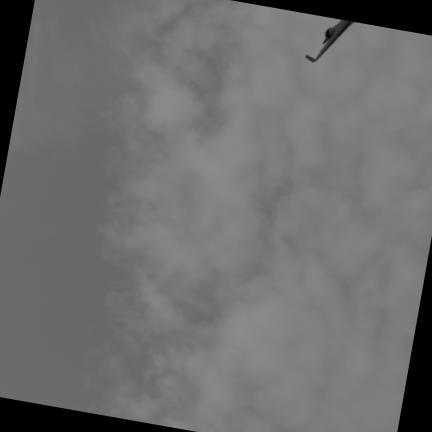Shahed: (306, 19, 353, 61)
